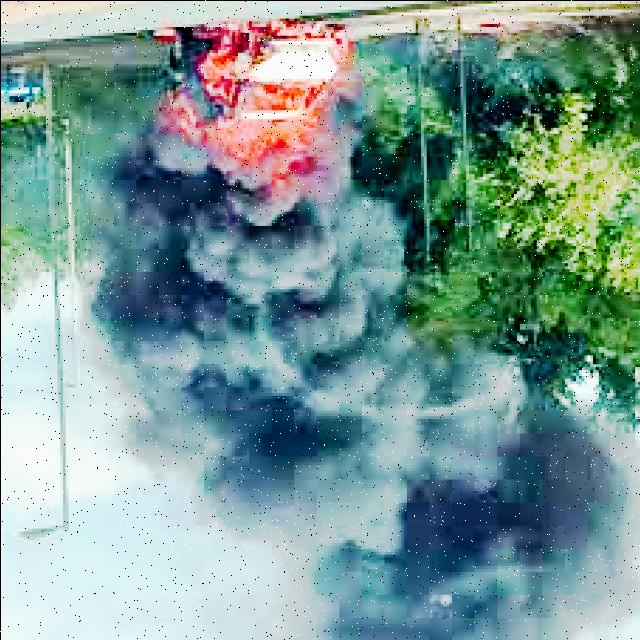api: (156, 16, 359, 200)
